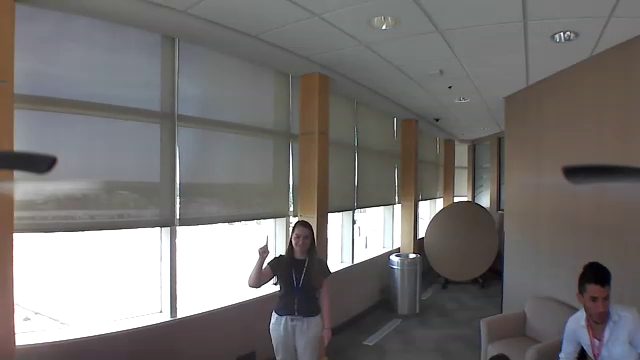up: (256, 232, 273, 260)
